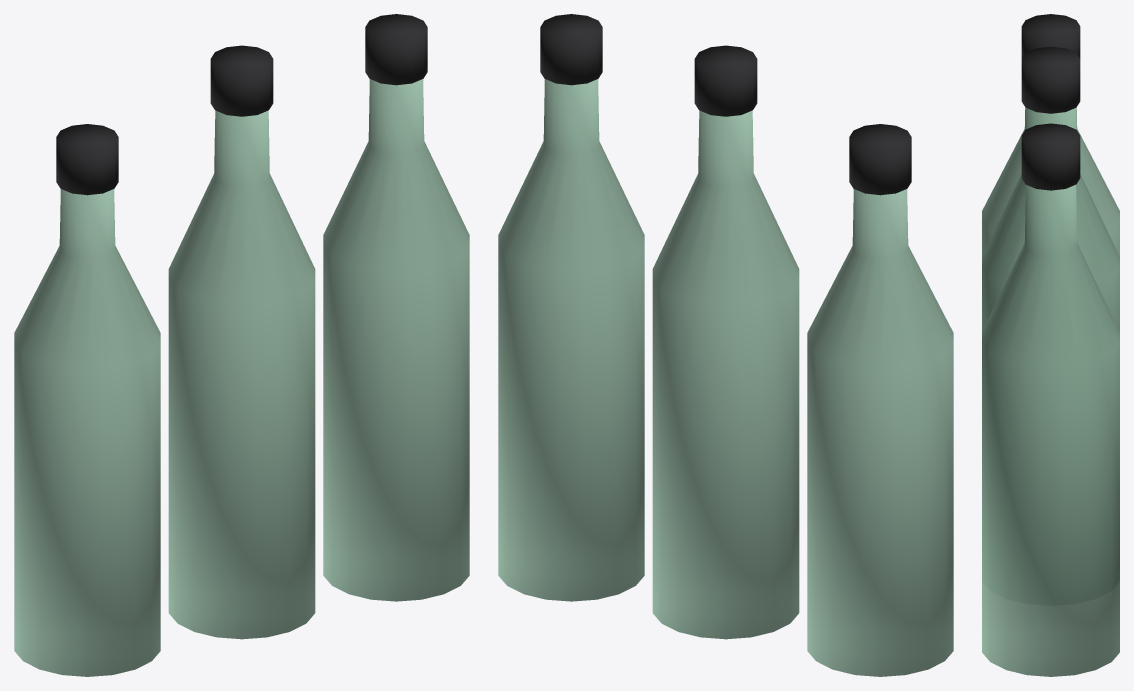
File: i_bottle_5.glb
The picture shows the model from 3 angles, left to right: view 1: azimuth 30°, elevation 25°; view 2: azimuth 150°, elevation 25°; view 3: azimuth 270°, elevation 25°; orthographic projection. The views are drawn at different scales.
Visible parts, largest first — view 1: o.002, o.004, o, o.003, o.005, o.001; view 2: o.002, o.004, o, o.003, o.005, o.001; view 3: o.004, o.002, o.005, o.003, o, o.001.
Part boxes in pixels (box(x1,y1,x2,y2)): o.002: box(168, 110, 315, 639); o.004: box(323, 79, 469, 601); o: box(14, 189, 160, 676); o.003: box(210, 45, 273, 116); o.005: box(365, 14, 427, 85); o.001: box(56, 124, 118, 195); o.002: box(652, 110, 799, 639); o.004: box(498, 79, 644, 601); o: box(807, 189, 953, 676); o.003: box(694, 45, 757, 116); o.005: box(540, 14, 602, 85); o.001: box(849, 124, 911, 195); o.004: box(982, 184, 1119, 676); o.002: box(982, 108, 1119, 331); o.005: box(1021, 123, 1080, 190); o.003: box(1021, 46, 1080, 113); o: box(982, 107, 1119, 256); o.001: box(1021, 14, 1080, 58).
Bounding box in the file's own units: 0.204 × 0.2446 × 0.0591.
